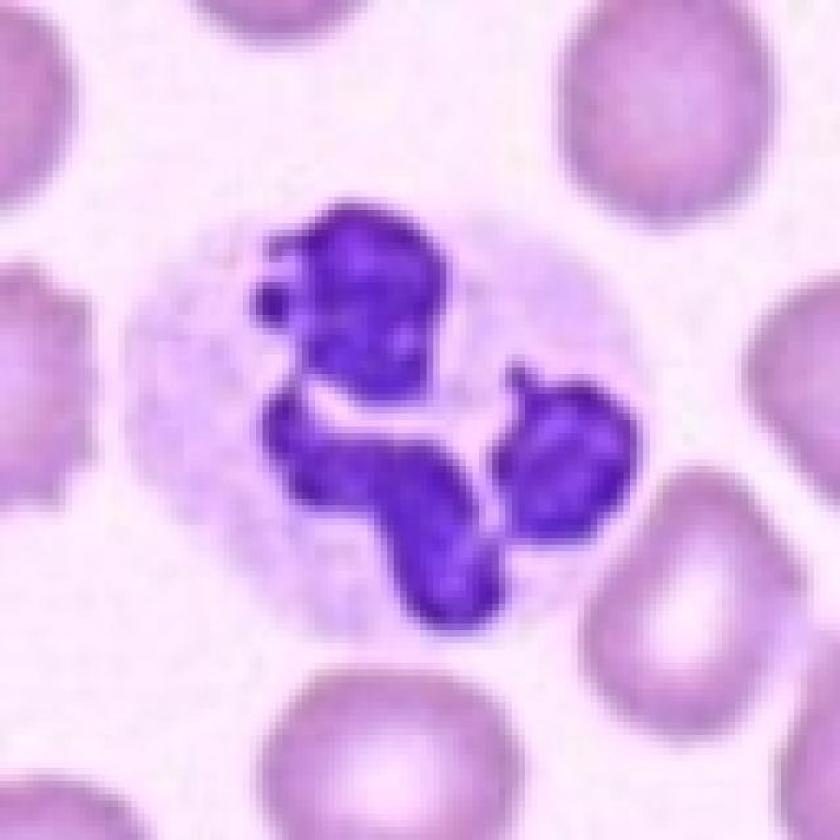neutrophil: (117, 119, 772, 710)
